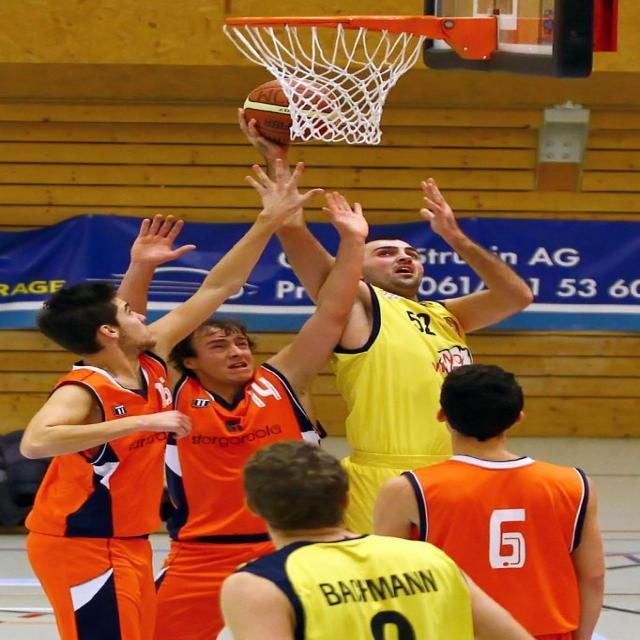rim: (239, 78, 339, 148)
